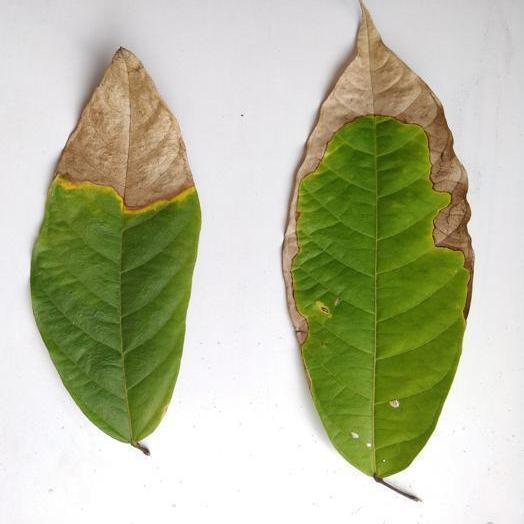Potassium: (284, 1, 473, 499), (32, 48, 200, 454)
